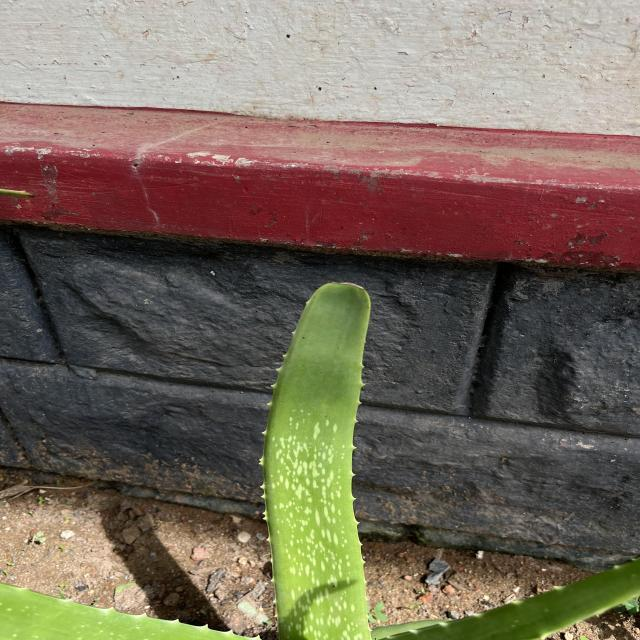Aloe vera: (254, 273, 386, 640)
